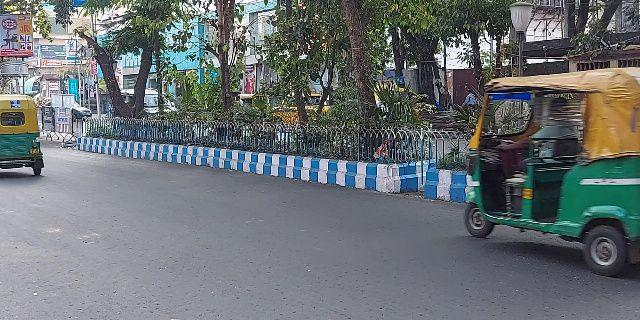Autorickshaw: (457, 65, 638, 272), (1, 92, 46, 180)
